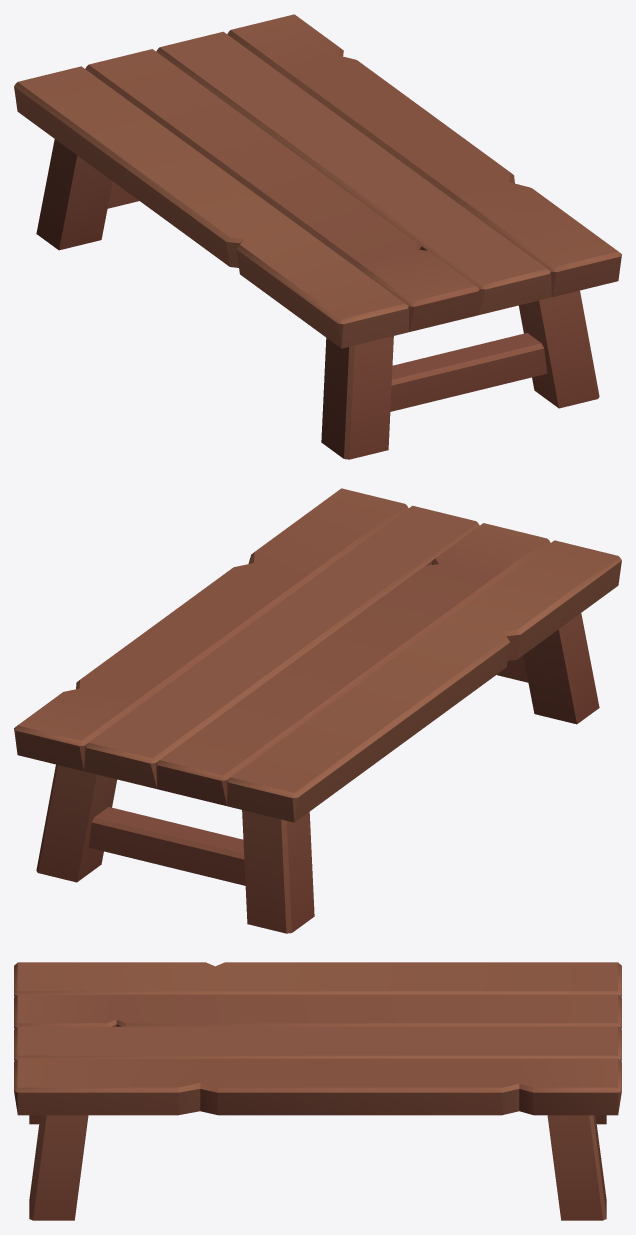
The model's file is table_long.glb.
3 renders of one model, top to bottom at view 1: azimuth 30°, elevation 25°; view 2: azimuth 150°, elevation 25°; view 3: azimuth 270°, elevation 25°, orthographic. The views are drawn at different scales.
Visible parts, largest first — view 1: table_long; view 2: table_long; view 3: table_long.
Boxes of the visible parts, left/top/right/bottom form: table_long: left=14, top=14, right=621, bottom=459; table_long: left=14, top=488, right=621, bottom=933; table_long: left=14, top=962, right=621, bottom=1220.
Bounding box in the file's own units: 2 × 1 × 4.
